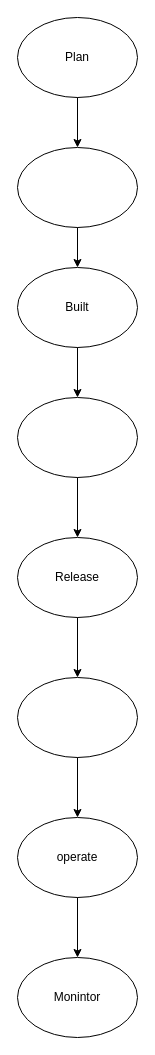
This 155x1055 diagram has some shape labels left out. The box of each missing label's shape, as (x1, y1, x2, y2) in pixels:
Deploy: (16, 676, 138, 758)
development: (16, 146, 138, 228)
test: (16, 396, 138, 478)
